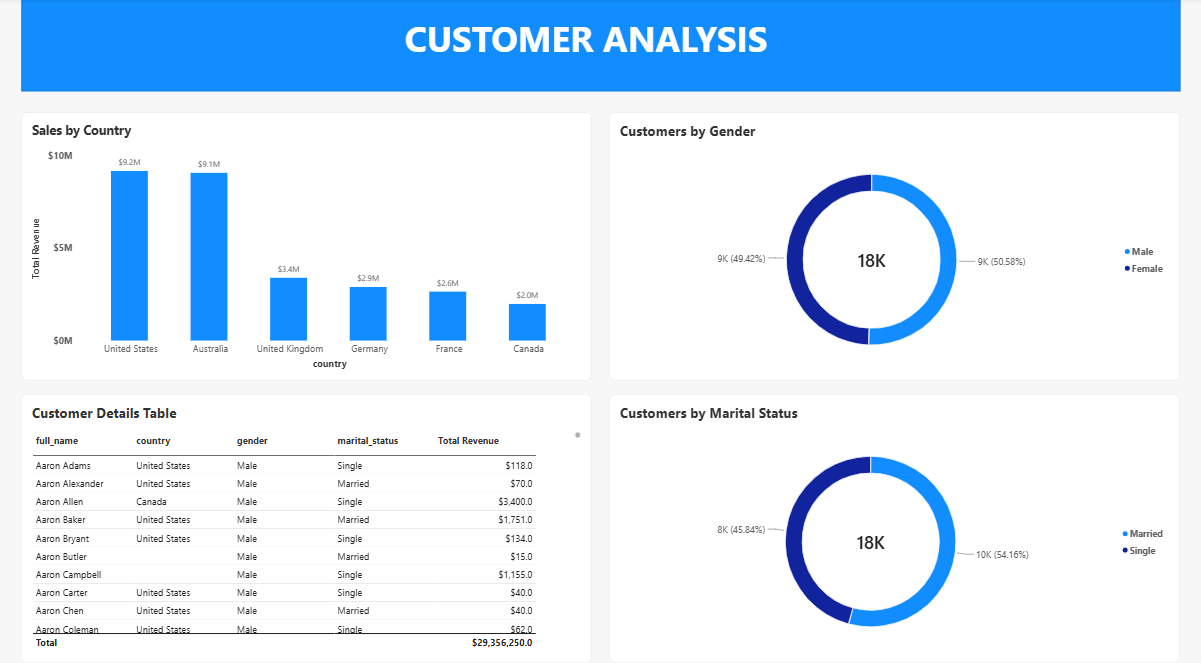

This screenshot's page, from the dashboard's own definition file:
{"tool":"powerbi","page":{"name":"Customer Analysis","canvas":[1920,1080],"ordinal":1},"visuals":[{"type":"clusteredColumnChart","title":"Sales  by Country","fields":{"Category":["dim_customers.country"],"Y":["fact_sales.Total Sales"]},"box":[34.8,182.6,906.5,426.1],"z":0},{"type":"donutChart","title":"Customers by Gender","fields":{"Category":["dim_customers.gender"],"Y":["fact_sales.Total Customers"]},"box":[971.7,182.6,906.5,426.1],"z":1000},{"type":"donutChart","title":"Customers by Marital Status","fields":{"Category":["dim_customers.marital_status"],"Y":["fact_sales.Total Customers"]},"box":[971.7,632.6,906.5,426.1],"z":2000},{"type":"tableEx","title":"Customer Details Table","fields":{"Values":["dim_customers.full_name","dim_customers.country","dim_customers.gender","dim_customers.marital_status","fact_sales.Total Sales"]},"box":[34.8,632.6,906.5,426.1],"z":3000},{"type":"shape","box":[34.8,0,1843.5,150],"z":4000},{"type":"textbox","box":[441.3,26.1,984.8,82.6],"z":5000}]}

Visuals, with their boxes in screenshot pixels (x1, y1, x2, y2), scaled from the page's 1920x1080 canvas onto the 1201x663 screenshot:
"Sales  by Country" clusteredColumnChart: 22:112:589:374
"Customers by Gender" donutChart: 608:112:1175:374
"Customers by Marital Status" donutChart: 608:388:1175:650
"Customer Details Table" tableEx: 22:388:589:650
shape: 22:0:1175:92
textbox: 276:16:892:67
